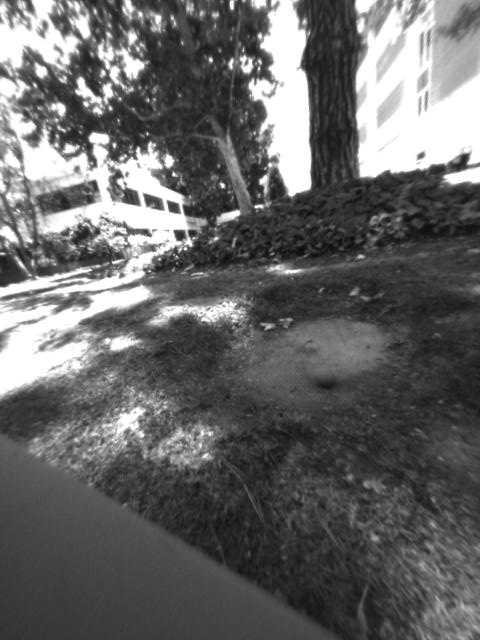dogtoy: (304, 353, 345, 401)
